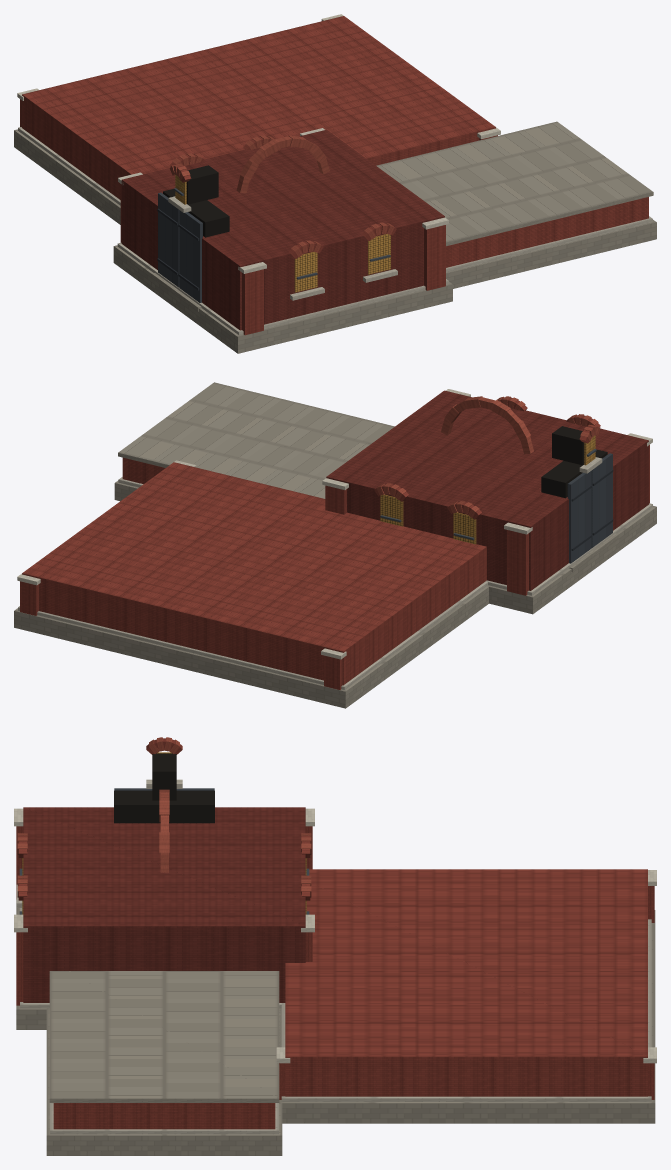
File: fun-8-construction.glb
The picture shows the model from 3 angles, top to bottom: view 1: azimuth 30°, elevation 25°; view 2: azimuth 150°, elevation 25°; view 3: azimuth 270°, elevation 25°; orthographic projection. The views are drawn at different scales.
Size of the model in its own units: 29.56 by 9.36 by 31.91.
Materials: 21 (18 with a texture image).
